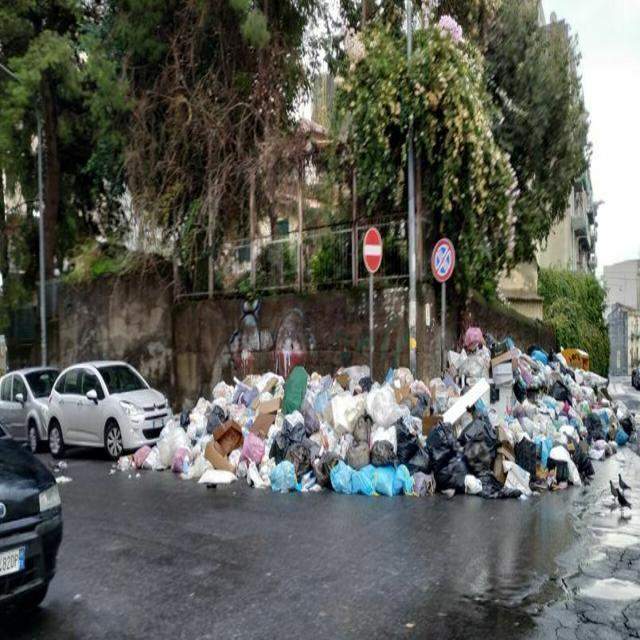Trashbag: (432, 432, 464, 488), (398, 418, 429, 472), (468, 422, 500, 472)
